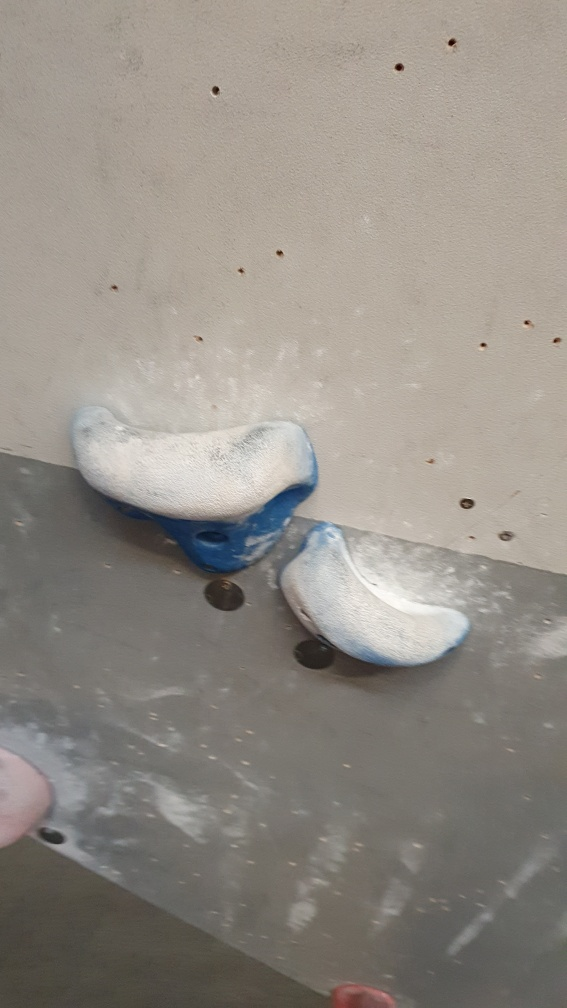Hand Start: (196, 568, 250, 623), (291, 634, 335, 682), (38, 819, 75, 849)
Jug: (66, 396, 318, 579), (276, 523, 467, 673)
